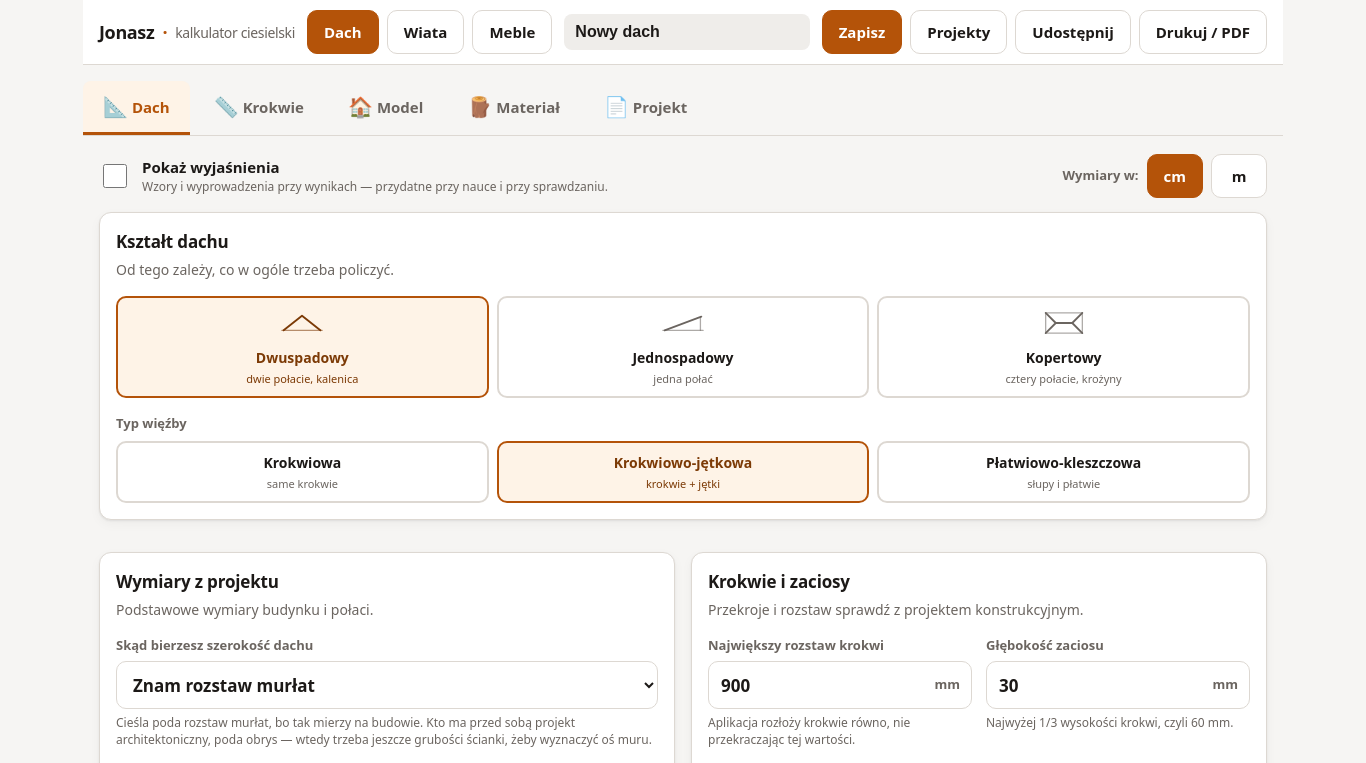
aplikacja jako całość › zmiana kształtu na kopertowy pokazuje wyniki dla krożyn
Click the button "Kopertowy cztery połacie, krożyny" at {"x": 1064, "y": 346}, box [877, 296, 1250, 398]
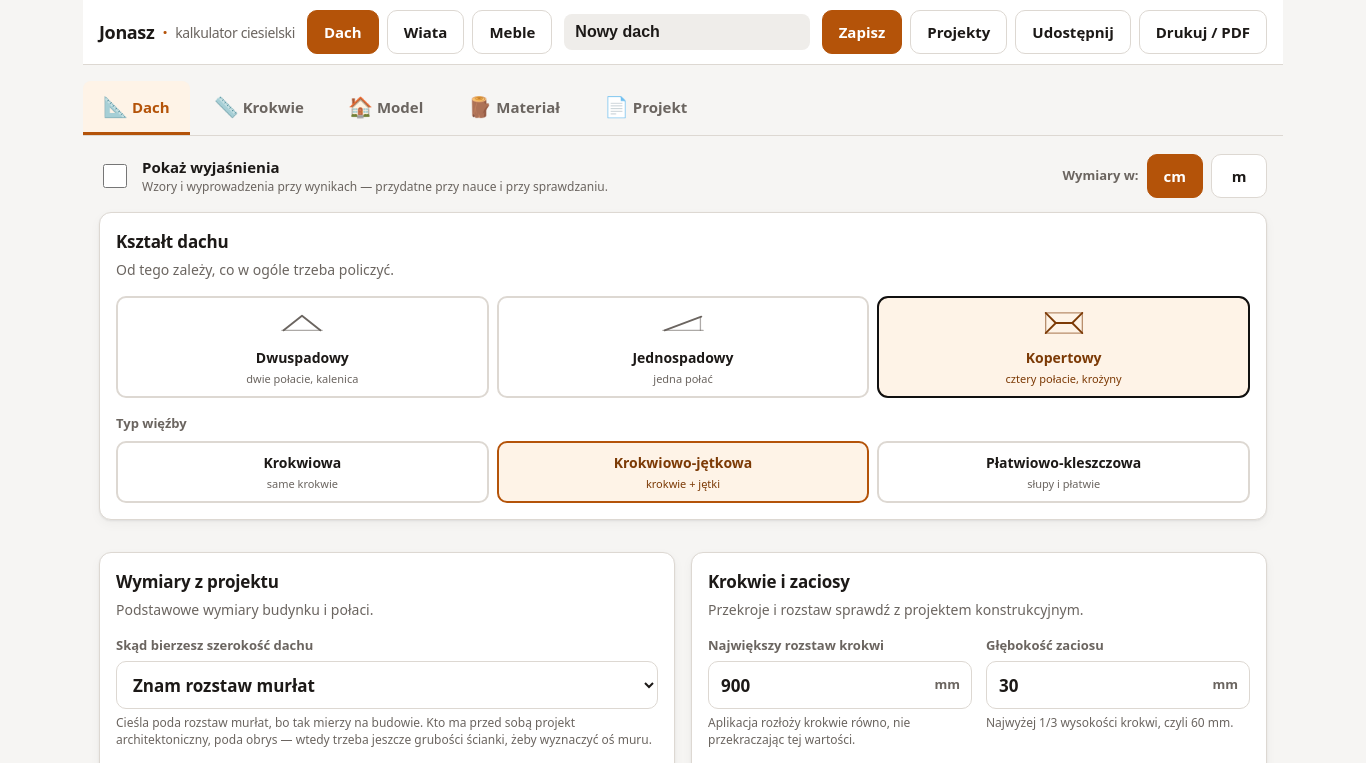
Click the tab "📏 Krokwie" at {"x": 259, "y": 108}, box [194, 81, 324, 135]
(page scrolled)
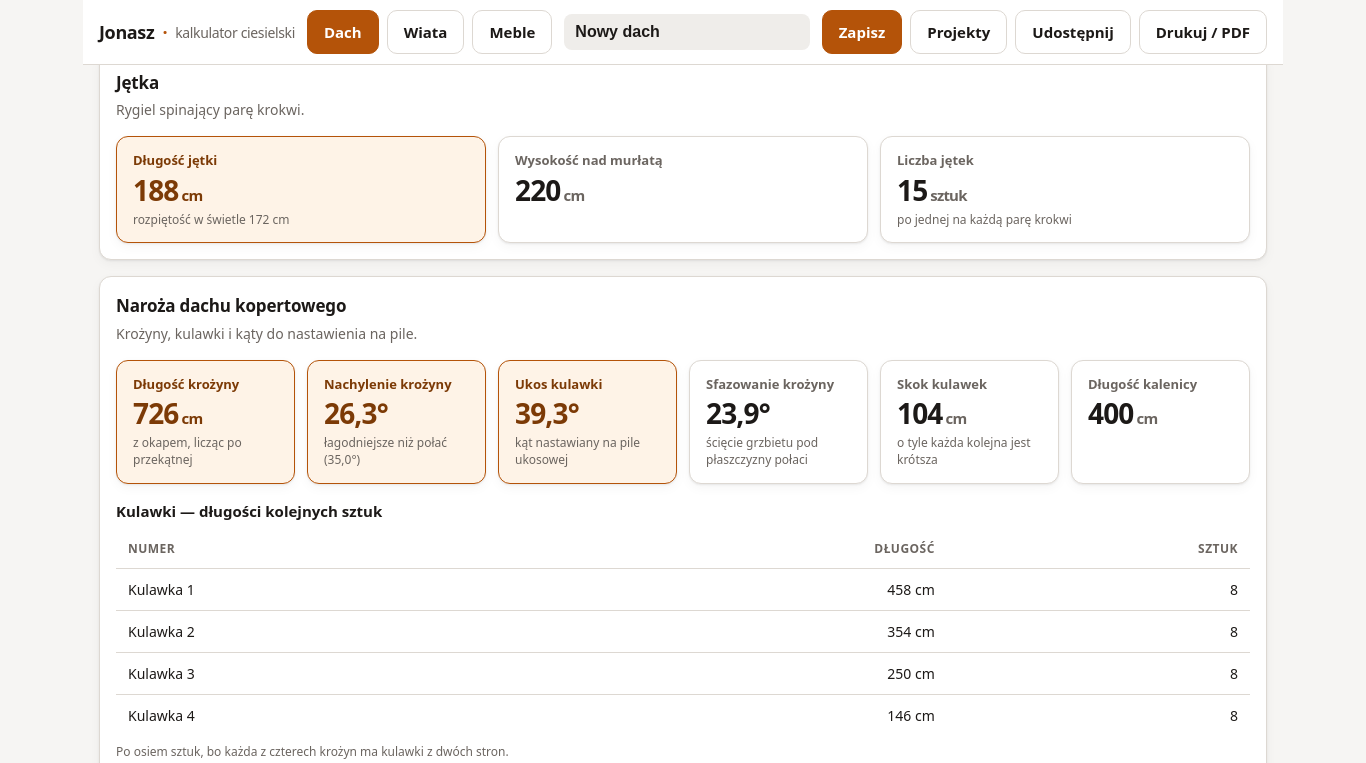
Check: the text "Długość krożyny" is shown, box [133, 375, 239, 393]
Check: the text "Ukos kulawki" is shown, box [515, 375, 602, 393]
